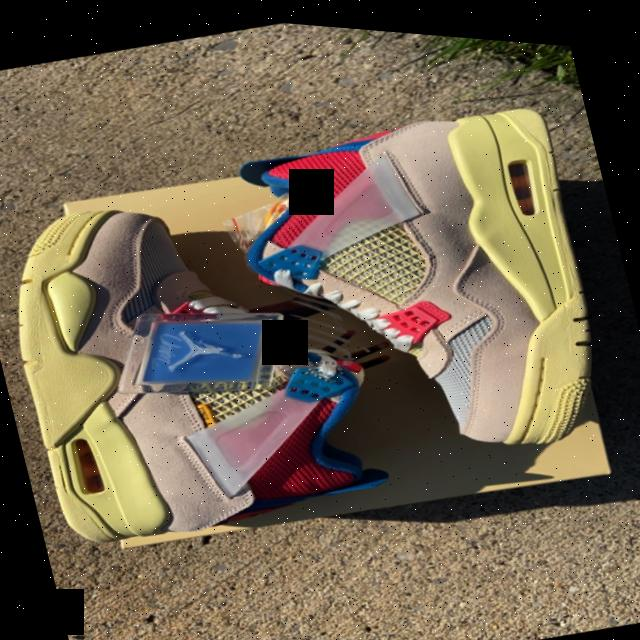shoes: (0, 150, 359, 568), (254, 75, 599, 490)
